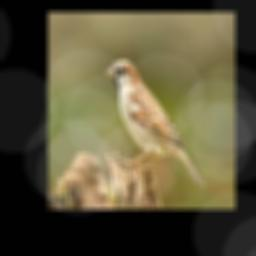Sparrow: (105, 59, 205, 188)
